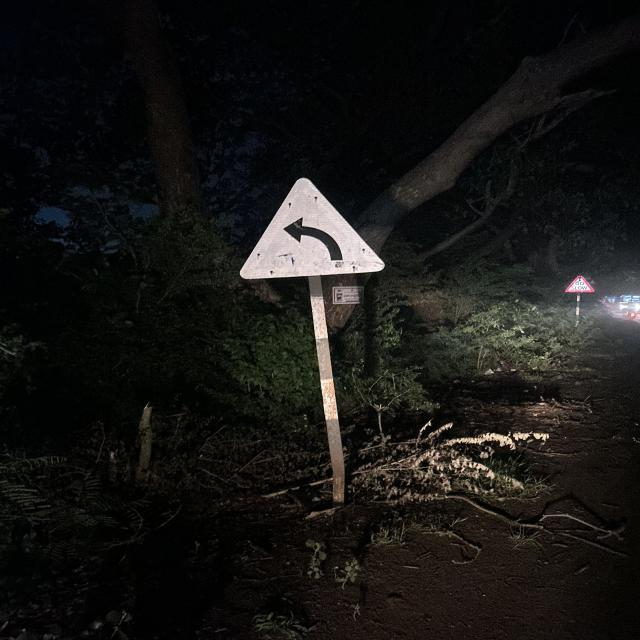left hand curve: (238, 176, 383, 279)
